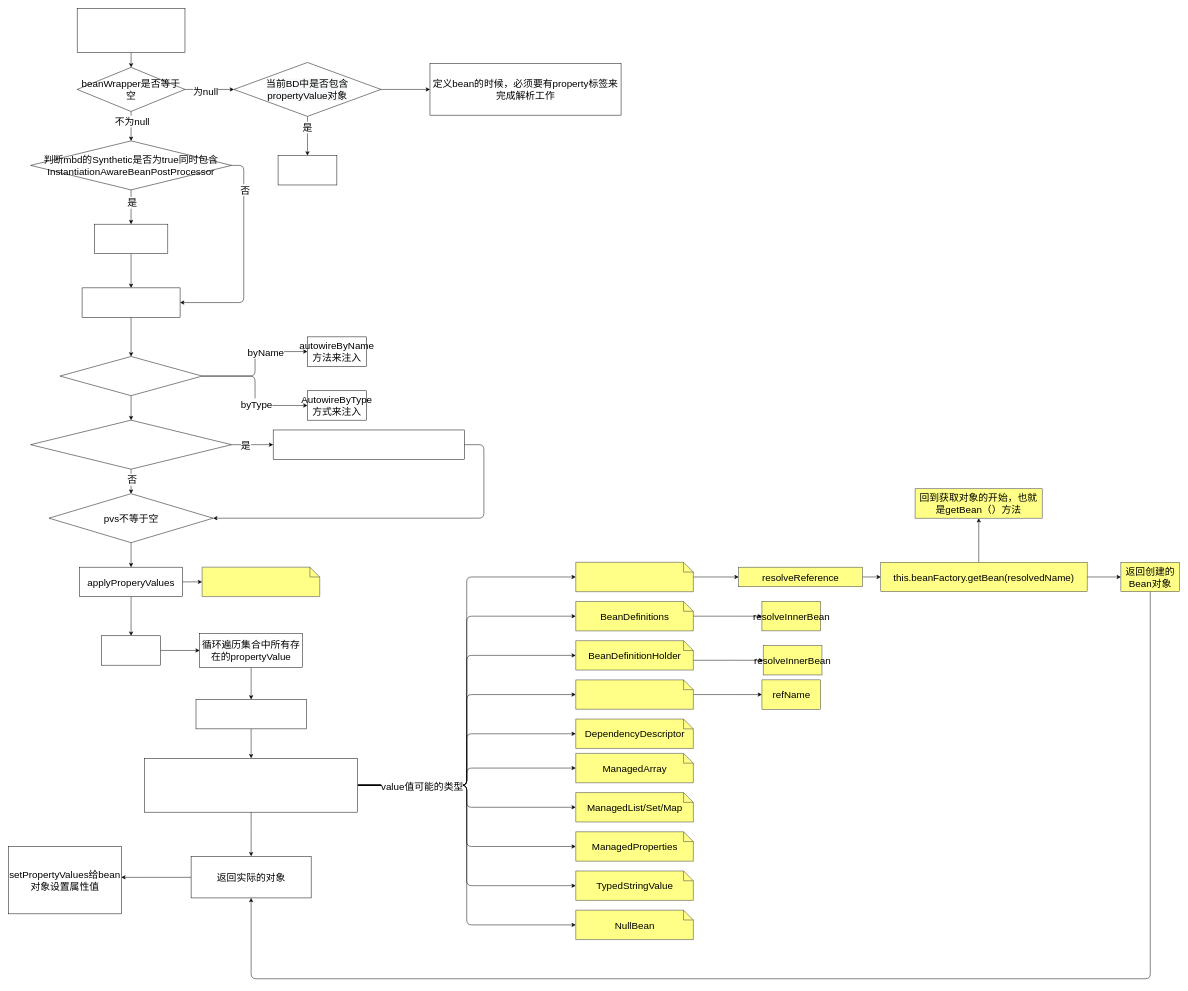
Image size: 1188x991. Some labels were removed from this diagram. Here are the shapes that lost their labels. From the top down, the centre of each, then its label:
At (x=131, y=30): "populateBean 填充属性".
At (x=307, y=170): "抛出异常".
At (x=131, y=239): "进行实例化之后的属性设置工作".
At (x=131, y=302): "获取PropertyValue的注入模式，是ByType还是ByName".
At (x=131, y=376): "模式判断".
At (x=131, y=444): "是否实现了InstantiationAwareBeanPostProcessor".
At (x=368, y=444): "调用postProcessorProperties方法来进行属性值的设置工作".
At (x=261, y=582): "具体的属性值设置".
At (x=634, y=577): "RuntimeBeanReference".
At (x=130, y=650): "对PropertyValues进行一系列的验证工作".
At (x=251, y=714): "反别获取name和value对象".
At (x=634, y=694): "RuntimeBeanNameReference".
At (x=251, y=785): "resolveValueIfNecessary 调用此方法来完成value值的解析工作".
